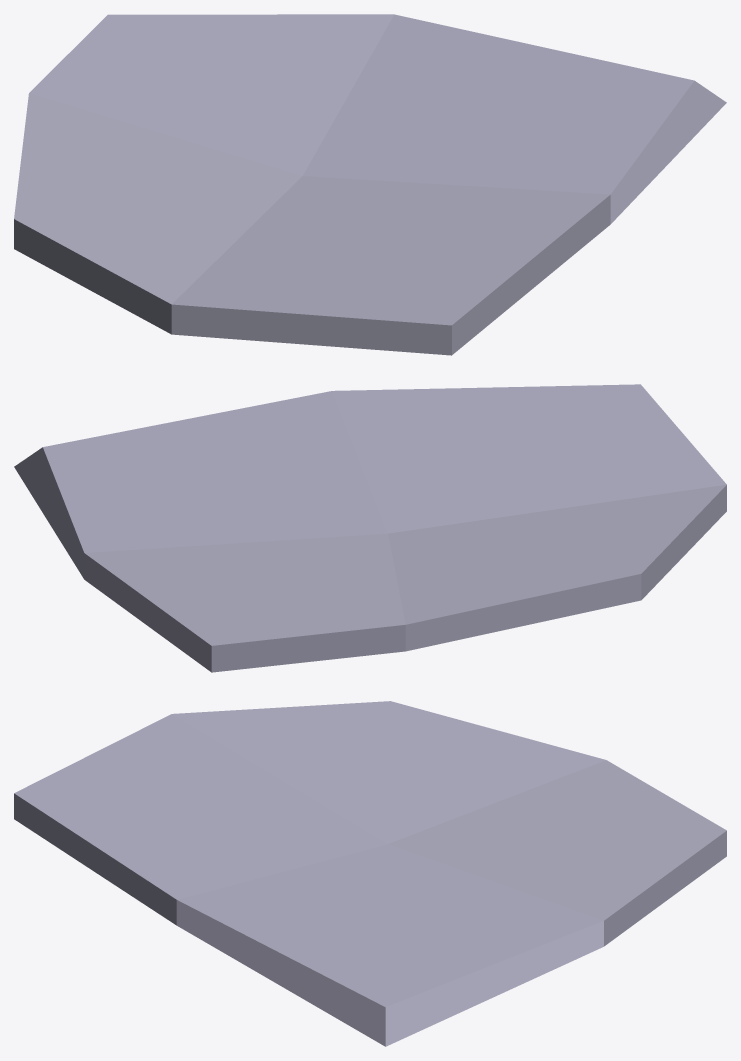
The model's file is Batugepeng1.fbx.
3 renders of one model, top to bottom at view 1: azimuth 30°, elevation 25°; view 2: azimuth 150°, elevation 25°; view 3: azimuth 270°, elevation 25°, orthographic. The views are drawn at different scales.
Parts seen in each view (by area): view 1: roadrock_2a; view 2: roadrock_2a; view 3: roadrock_2a.
Boxes of the visible parts, x1=… form: roadrock_2a: x1=14, y1=14, x2=726, y2=355; roadrock_2a: x1=14, y1=384, x2=726, y2=672; roadrock_2a: x1=14, y1=701, x2=726, y2=1046.
Bounding box in the file's own units: 165 × 12.15 × 166.
